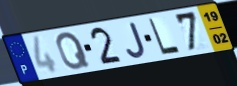2: (90, 26, 124, 66)
4: (33, 34, 61, 75)
7: (174, 10, 200, 53)
J: (124, 20, 148, 59)
L: (147, 17, 182, 56)
Q: (55, 30, 92, 71)
